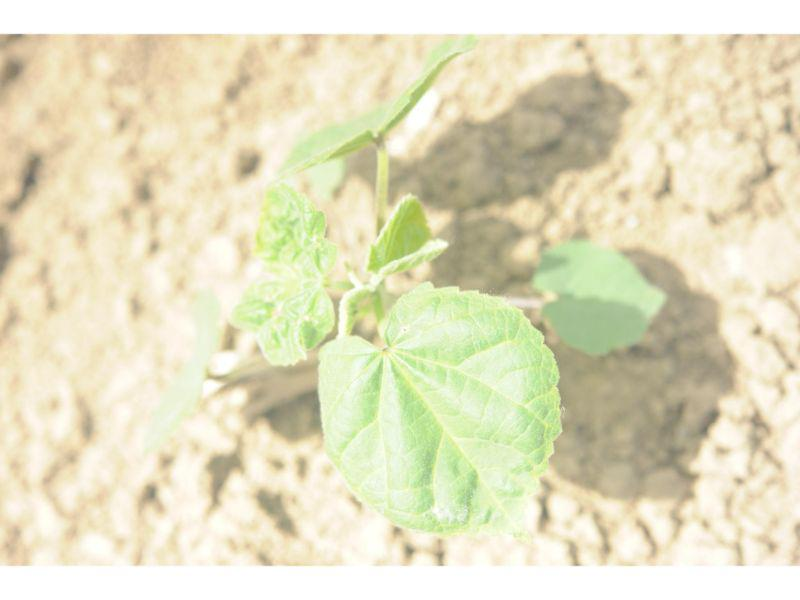velvet: (225, 38, 667, 535)
